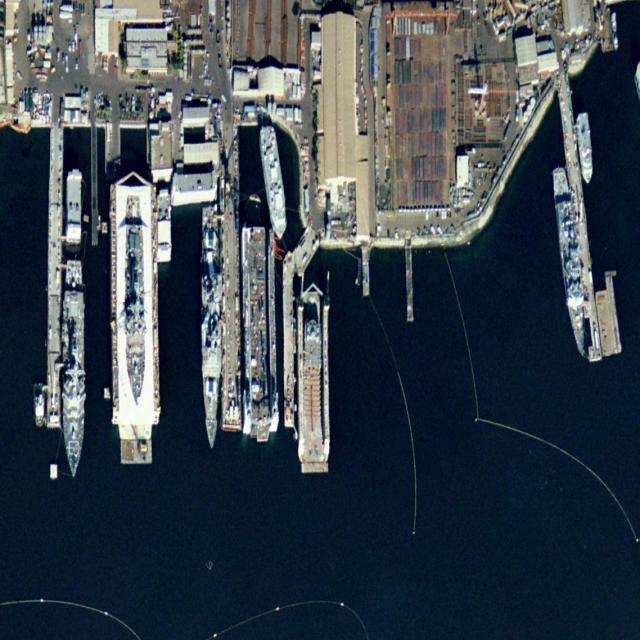Cruiser: (201, 204, 223, 449)
Destroyer: (62, 258, 86, 478), (124, 196, 146, 406)
Other Ship: (551, 164, 589, 358), (256, 123, 292, 242), (576, 112, 595, 185)
